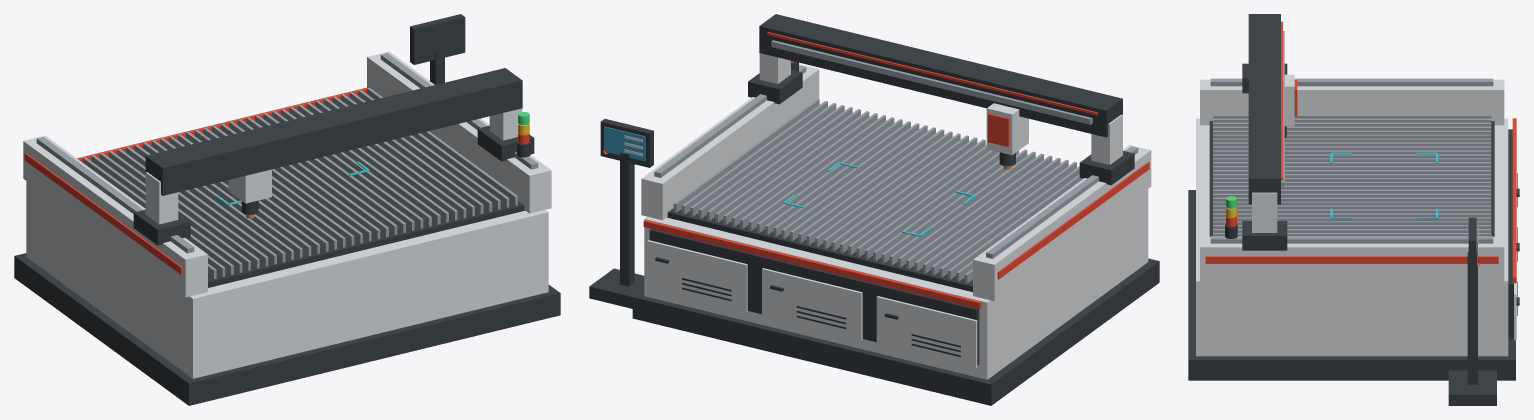
Rendered from Cutter_LaserBed.glb.
The picture shows the model from 3 angles, left to right: view 1: azimuth 30°, elevation 25°; view 2: azimuth 150°, elevation 25°; view 3: azimuth 270°, elevation 25°; orthographic projection. The views are drawn at different scales.
Visible parts, largest first — view 1: BedCabinet, GantryCrossbeam, BasePlinth, SideRailHousing-1.62, SideRailHousing1.62, BedInterior, HMI_Frame, SideAccent-1.62, LinearRail-1.62, GantryUpright-1.62, GantrySaddle-1.62, SupportSlat_07 (+38 smaller); view 2: BedCabinet, BasePlinth, GantryCrossbeam, SideRailHousing-1.62, SideRailHousing1.62, FrontApron, AccessDoor-1.12, AccessDoor1.12, AccessDoor0, BedInterior, FrontRedTrim, GantryFrontRail (+48 smaller); view 3: BedCabinet, SideRailHousing1.62, BasePlinth, SideRailHousing-1.62, GantryCrossbeam, SideAccent1.62, LinearRail-1.62, LinearRail1.62, HMI_Foot, HMI_Post, SupportSlat_19, SupportSlat_18 (+38 smaller).
Boxes of the visible parts, x1=… form: BedCabinet: x1=26, y1=181, x2=548, y2=378; GantryCrossbeam: x1=145, y1=68, x2=522, y2=195; BasePlinth: x1=14, y1=253, x2=560, y2=405; SideRailHousing-1.62: x1=23, y1=135, x2=207, y2=297; SideRailHousing1.62: x1=367, y1=51, x2=551, y2=213; BedInterior: x1=208, y1=201, x2=524, y2=287; HMI_Frame: x1=410, y1=14, x2=465, y2=64; SideAccent-1.62: x1=24, y1=153, x2=182, y2=274; LinearRail-1.62: x1=36, y1=137, x2=194, y2=253; GantryUpright-1.62: x1=145, y1=172, x2=178, y2=224; GantrySaddle-1.62: x1=133, y1=209, x2=190, y2=245; SupportSlat_07: x1=117, y1=148, x2=268, y2=266; BedCabinet: x1=644, y1=189, x2=1148, y2=379; BasePlinth: x1=632, y1=258, x2=1159, y2=405; GantryCrossbeam: x1=759, y1=14, x2=1122, y2=137; SideRailHousing-1.62: x1=973, y1=145, x2=1151, y2=301; SideRailHousing1.62: x1=641, y1=64, x2=819, y2=220; FrontApron: x1=649, y1=229, x2=979, y2=365; AccessDoor-1.12: x1=876, y1=296, x2=977, y2=368; AccessDoor1.12: x1=647, y1=240, x2=747, y2=312; AccessDoor0: x1=762, y1=268, x2=862, y2=340; BedInterior: x1=667, y1=208, x2=972, y2=291; FrontRedTrim: x1=643, y1=219, x2=981, y2=308; GantryFrontRail: x1=771, y1=40, x2=1092, y2=124; BedCabinet: x1=1196, y1=118, x2=1508, y2=356; SideRailHousing1.62: x1=1200, y1=237, x2=1504, y2=282; BasePlinth: x1=1188, y1=190, x2=1515, y2=380; SideRailHousing-1.62: x1=1200, y1=79, x2=1504, y2=125; GantryCrossbeam: x1=1248, y1=14, x2=1280, y2=204; SideAccent1.62: x1=1205, y1=256, x2=1498, y2=263; LinearRail-1.62: x1=1210, y1=78, x2=1493, y2=86; LinearRail1.62: x1=1210, y1=236, x2=1493, y2=243; HMI_Foot: x1=1448, y1=370, x2=1496, y2=405; HMI_Post: x1=1467, y1=252, x2=1477, y2=384; SupportSlat_19: x1=1213, y1=189, x2=1491, y2=193; SupportSlat_18: x1=1213, y1=185, x2=1491, y2=189.
Bounding box in the file's own units: 4.05 × 1.92 × 2.88.
